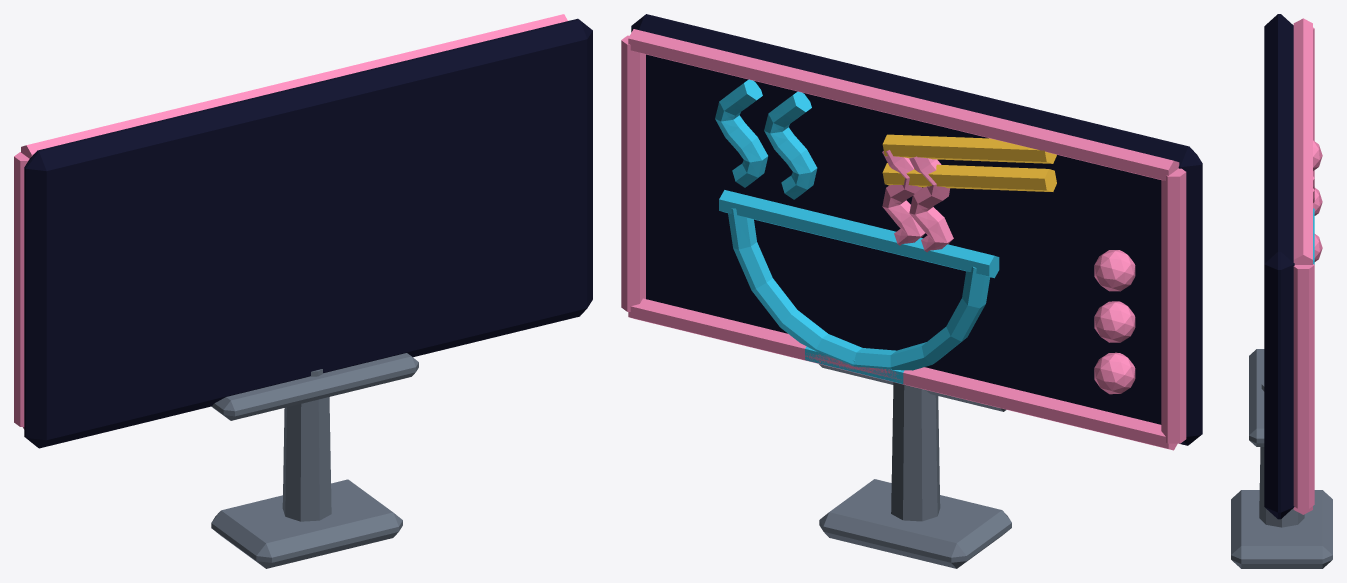
File: Prop_hero_city_NeonSign.glb
The picture shows the model from 3 angles, left to right: view 1: azimuth 30°, elevation 25°; view 2: azimuth 150°, elevation 25°; view 3: azimuth 270°, elevation 25°; orthographic projection. The views are drawn at different scales.
Visible parts, largest first — view 1: BoardInk_0D0F2B, StoneDark_6B7686, NeonPink_FF8FC0; view 2: BoardInk_0D0F2B, NeonPink_FF8FC0, ZoneCyan_35C9F0, StoneDark_6B7686, Gold_FFC83D; view 3: BoardInk_0D0F2B, NeonPink_FF8FC0, StoneDark_6B7686.
Part boxes in pixels (x1=…): BoardInk_0D0F2B: x1=24, y1=18, x2=592, y2=448; StoneDark_6B7686: x1=211, y1=353, x2=418, y2=568; NeonPink_FF8FC0: x1=14, y1=14, x2=568, y2=429; BoardInk_0D0F2B: x1=631, y1=14, x2=1202, y2=445; NeonPink_FF8FC0: x1=621, y1=29, x2=1186, y2=450; ZoneCyan_35C9F0: x1=715, y1=79, x2=999, y2=383; StoneDark_6B7686: x1=819, y1=364, x2=1011, y2=568; Gold_FFC83D: x1=882, y1=134, x2=1056, y2=191; BoardInk_0D0F2B: x1=1264, y1=14, x2=1294, y2=519; NeonPink_FF8FC0: x1=1293, y1=18, x2=1322, y2=514; StoneDark_6B7686: x1=1231, y1=349, x2=1332, y2=568.
Bounding box in the file's own units: 11.6 × 8.85 × 2.
